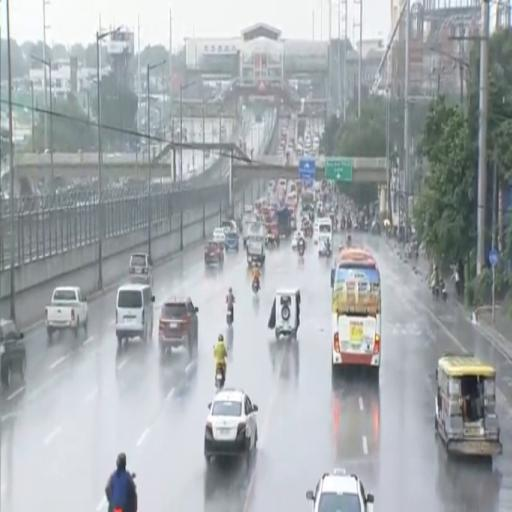bus: (333, 249, 381, 376)
car: (204, 389, 258, 462), (306, 469, 374, 511), (159, 298, 198, 357), (0, 319, 26, 389), (129, 253, 152, 286), (204, 240, 224, 265), (225, 231, 239, 251), (212, 228, 225, 245), (292, 231, 303, 249)
jeepney: (435, 355, 502, 456)
motorcycle: (215, 364, 224, 389), (129, 486, 137, 511), (439, 281, 447, 301), (251, 278, 260, 294), (227, 308, 233, 326), (432, 285, 440, 298), (298, 243, 305, 257), (442, 286, 447, 301)
truck: (46, 286, 88, 342), (246, 222, 265, 265), (242, 207, 256, 247), (276, 207, 291, 237)
